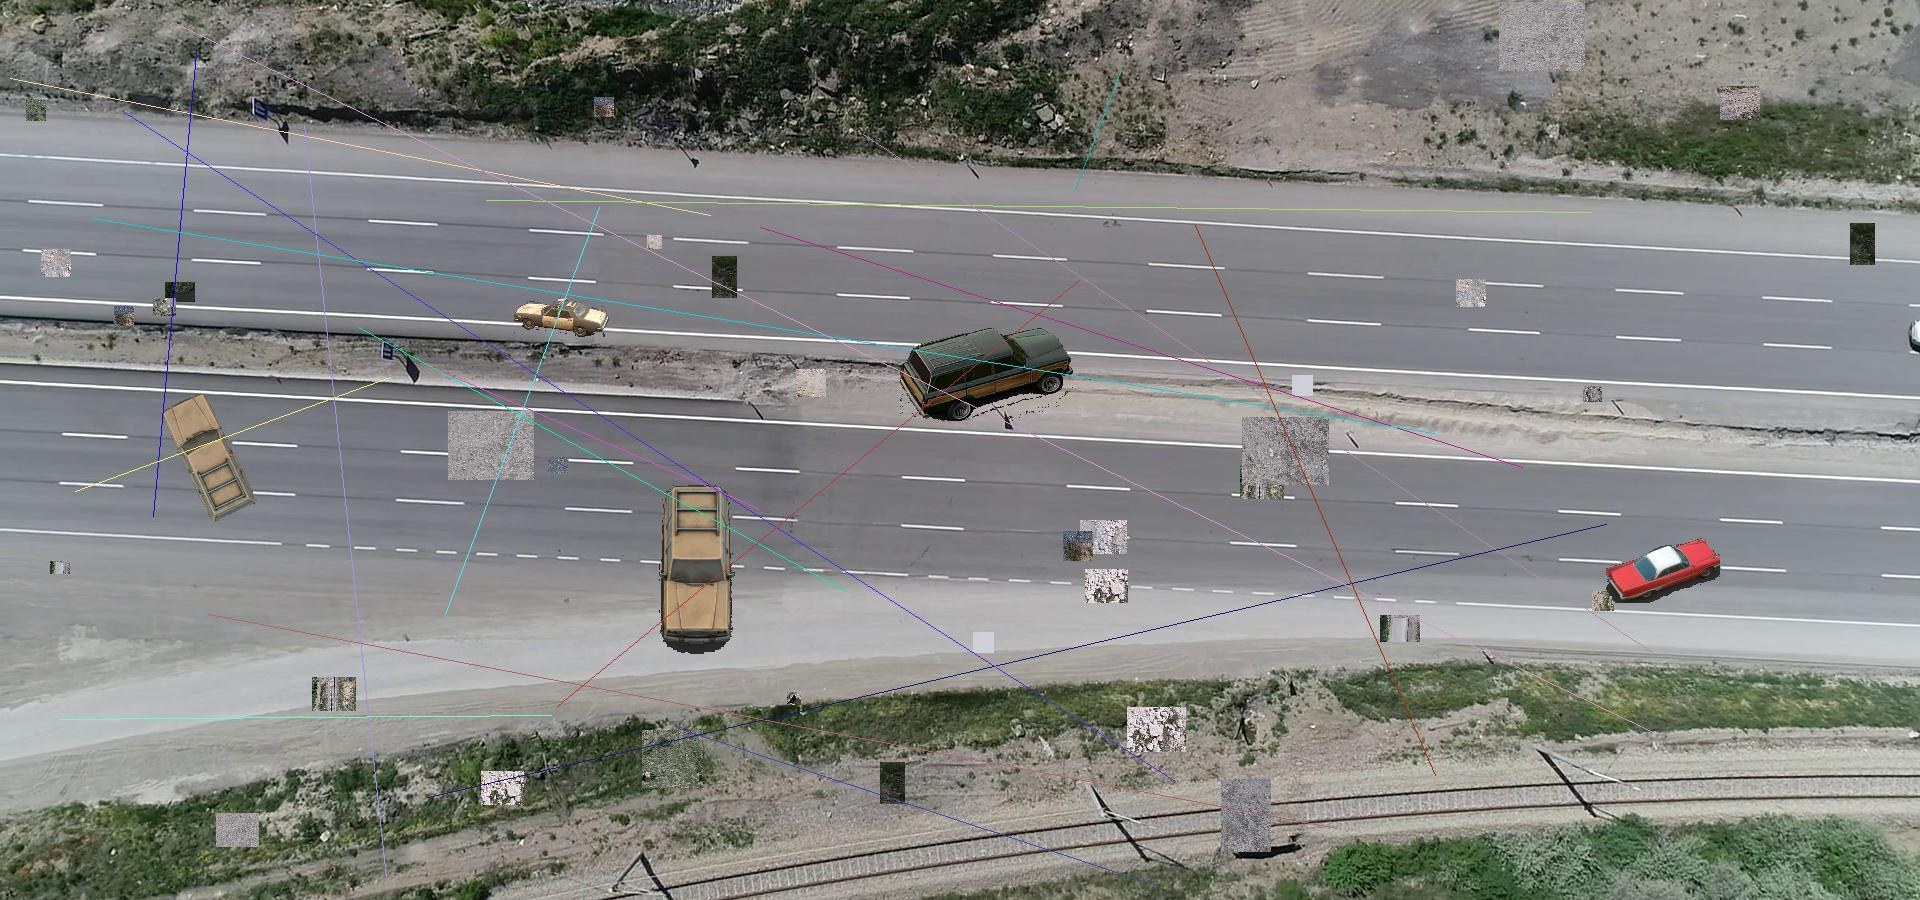arac: (899, 328, 1074, 421), (656, 481, 740, 654), (158, 392, 258, 522), (1607, 538, 1720, 602), (514, 296, 610, 337)
